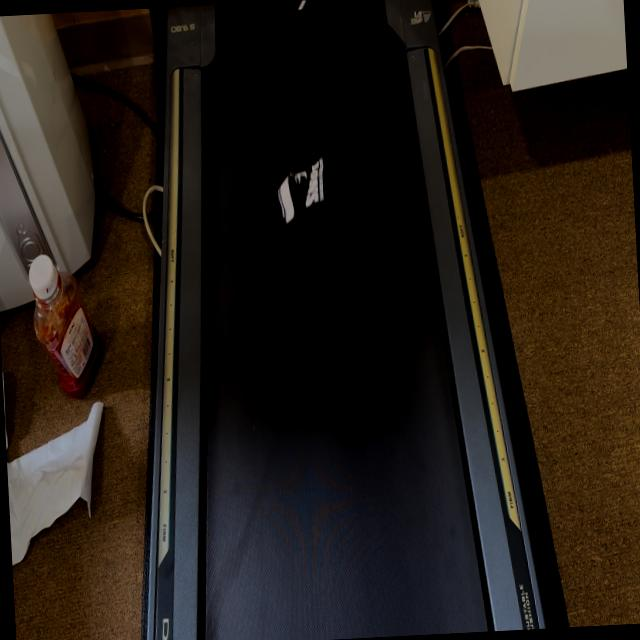Trash: (256, 76, 366, 284)
